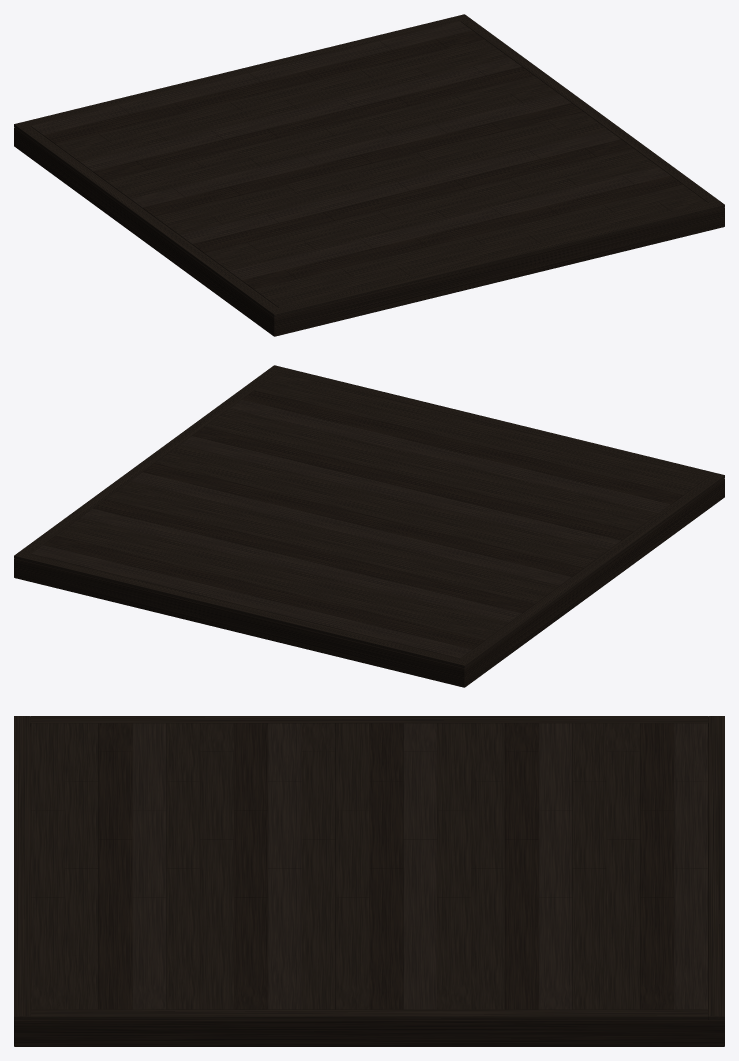
The model's file is chao.glb.
3 views of the same model, one above another, from view 1: azimuth 30°, elevation 25°; view 2: azimuth 150°, elevation 25°; view 3: azimuth 270°, elevation 25° (orthographic). The views are drawn at different scales.
Parts seen in each view (by area): view 1: chao; view 2: chao; view 3: chao.
Part boxes in pixels (x1,y1,x2,y2): chao: [14, 14, 724, 336]; chao: [14, 365, 724, 687]; chao: [14, 716, 724, 1046].
Size of the model in its own units: 4.2 by 0.2 by 4.2.
3 materials, 3 textured.
